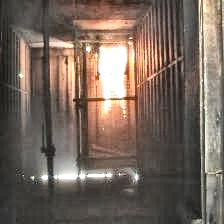fire: (94, 44, 135, 117)
